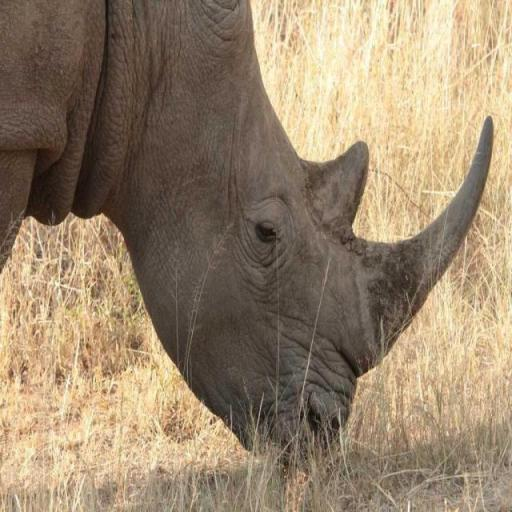Rhino: (0, 0, 495, 470)
